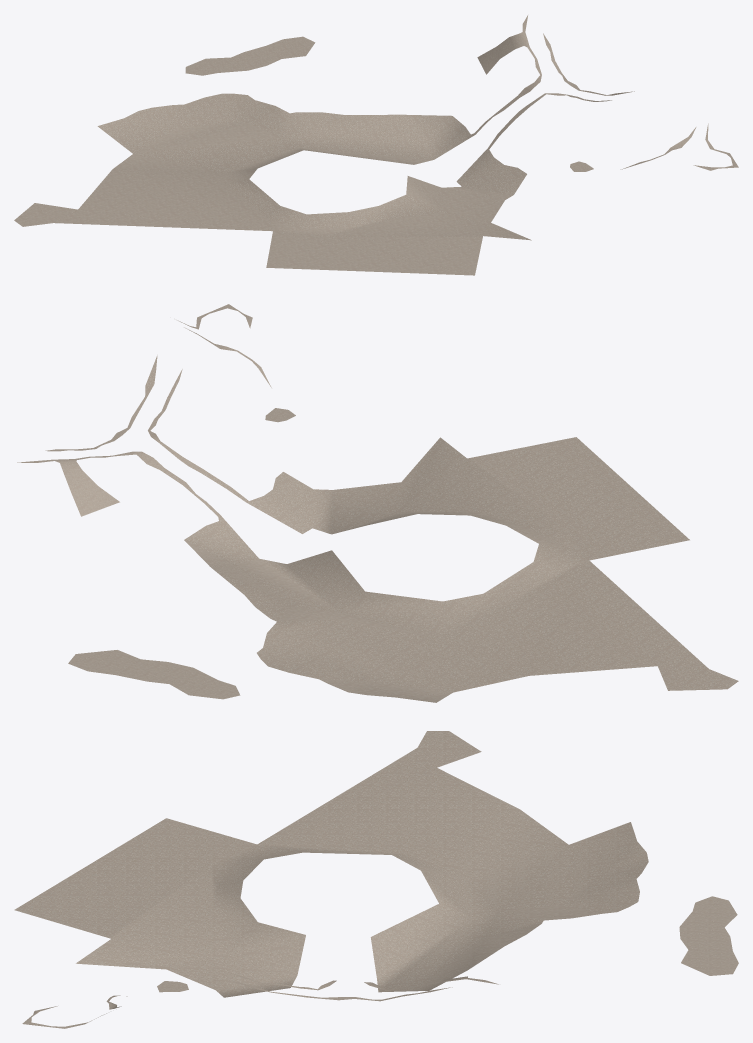
File: kd_connection_town-ground_surface_5_23.glb
3 views of the same model, one above another, from view 1: azimuth 30°, elevation 25°; view 2: azimuth 150°, elevation 25°; view 3: azimuth 270°, elevation 25° (orthographic). The views are drawn at different scales.
Visible parts, largest first — view 1: kd_connection_town-ground_surface_5_23; view 2: kd_connection_town-ground_surface_5_23; view 3: kd_connection_town-ground_surface_5_23.
Part boxes in pixels (box(x1,y1,x2,y2)): kd_connection_town-ground_surface_5_23: box(14, 15, 738, 275); kd_connection_town-ground_surface_5_23: box(17, 304, 738, 702); kd_connection_town-ground_surface_5_23: box(14, 731, 738, 1028).
Size of the model in its own units: 72.89 by 9.8 by 63.97.
1 material, 1 textured.
